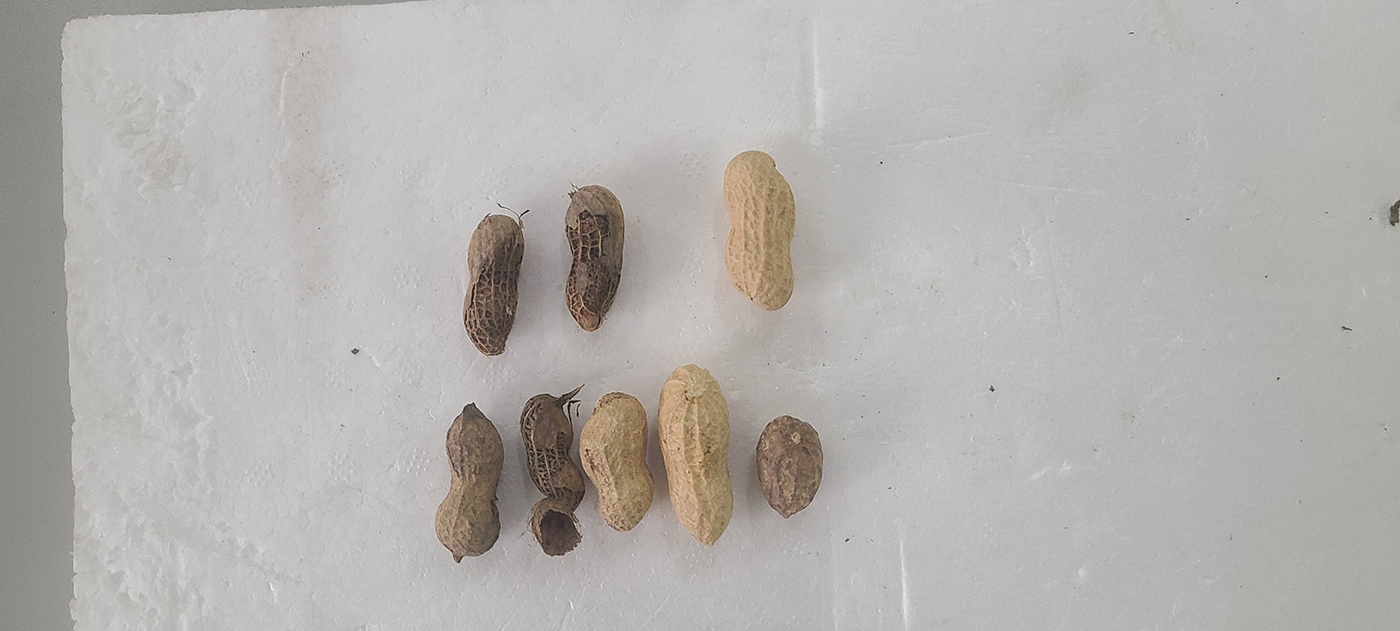h: (657, 364, 735, 546), (722, 151, 796, 309), (580, 391, 654, 534)
l: (434, 403, 504, 561), (520, 394, 586, 558), (563, 184, 625, 332), (463, 214, 523, 356), (755, 415, 824, 519)
